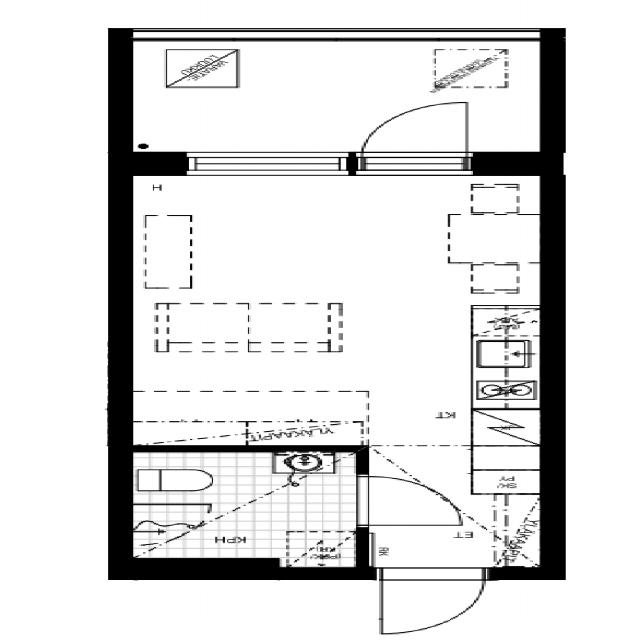door: (362, 96, 468, 176), (382, 567, 484, 633), (356, 477, 460, 524)
